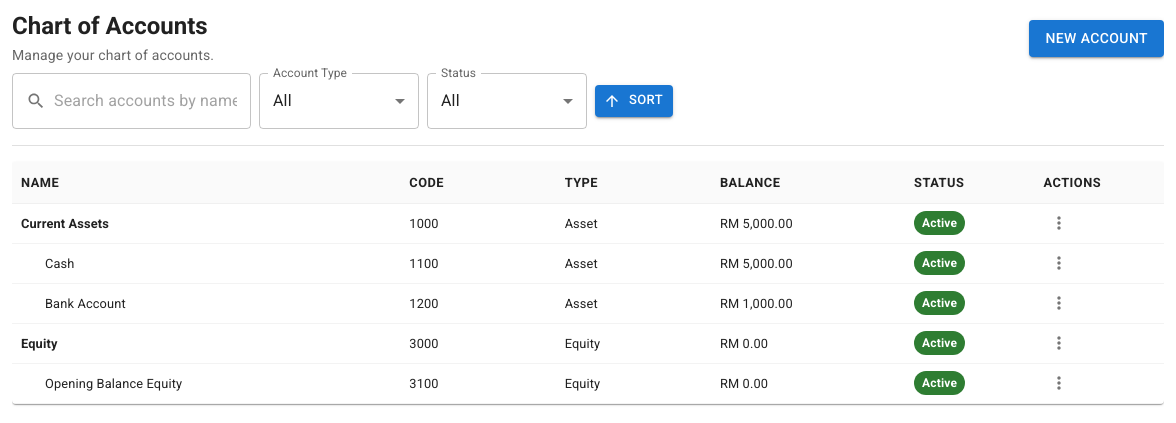
Test: ChartOfAccountsPage › renders the filtered tree in the table while a search is active
The width and height of the screenshot is (1176, 423).
In the field with placeholder "Search accounts by name or code...": (152, 101) x1=54 y1=73 x2=251 y2=129, type "cash"
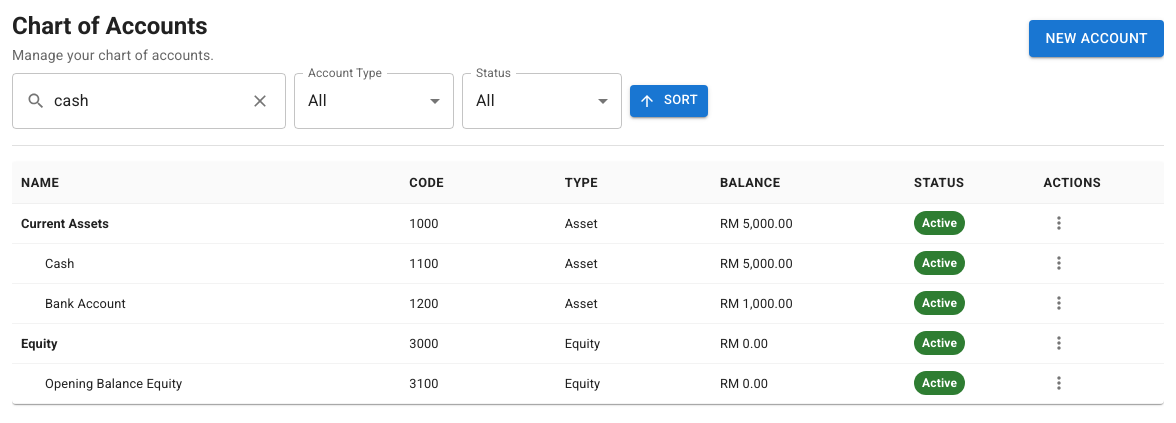
Press Enter in the field with placeholder "Search accounts by name or code...", box x1=54 y1=73 x2=237 y2=129
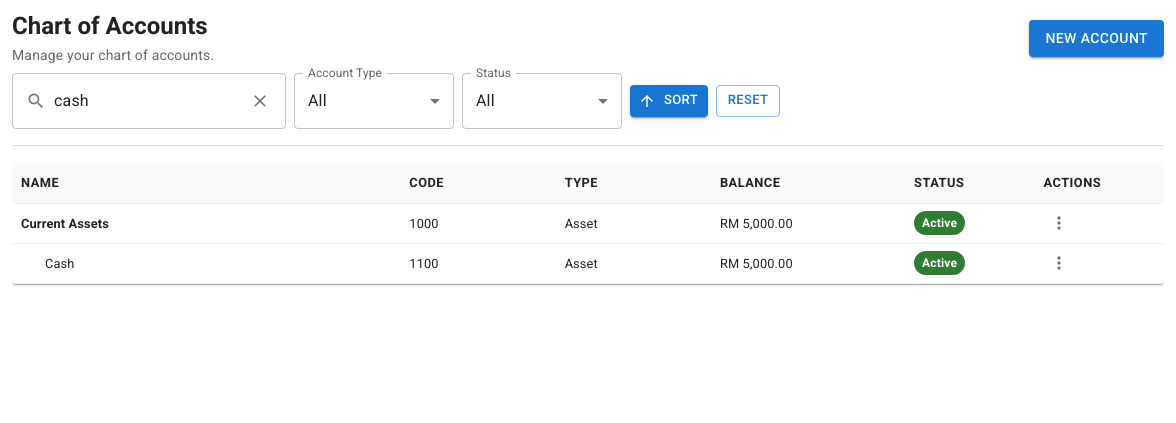
Expected: the text "Cash" is shown, x1=45 y1=256 x2=74 y2=271
Now the text "Bank Account" is gone
Now the text "Opening Balance Equity" is gone
